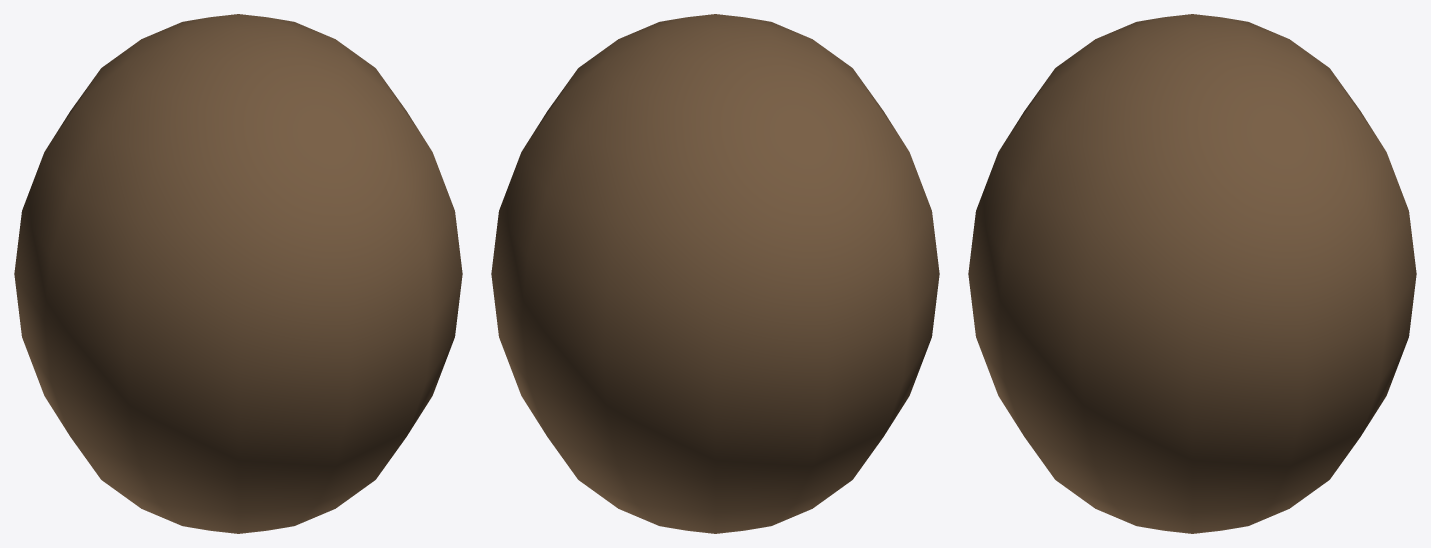
Rendered from Grãozinho_stage2.obj.
3 renders of one model, left to right at view 1: azimuth 30°, elevation 25°; view 2: azimuth 150°, elevation 25°; view 3: azimuth 270°, elevation 25°, orthographic.
Bounding box in the file's own units: 2 × 2.4 × 2.
